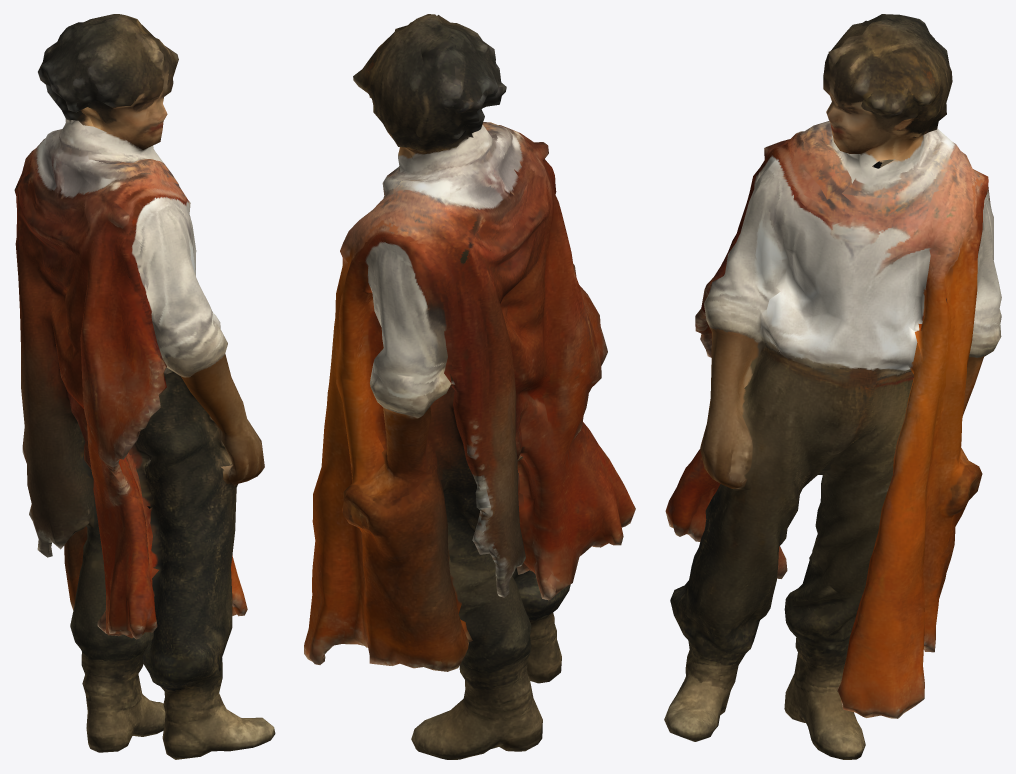
The model's file is matador.glb.
The picture shows the model from 3 angles, left to right: view 1: azimuth 30°, elevation 25°; view 2: azimuth 150°, elevation 25°; view 3: azimuth 270°, elevation 25°; orthographic projection. The views are drawn at different scales.
Parts seen in each view (by area): view 1: low; view 2: low; view 3: low.
Boxes of the visible parts, box(x1,y1,x2,y2) form: low: box(14, 14, 275, 759); low: box(304, 14, 635, 759); low: box(664, 14, 1001, 759).
Size of the model in its own units: 0.5575 by 1.8 by 0.758.
1 material, 1 textured.
